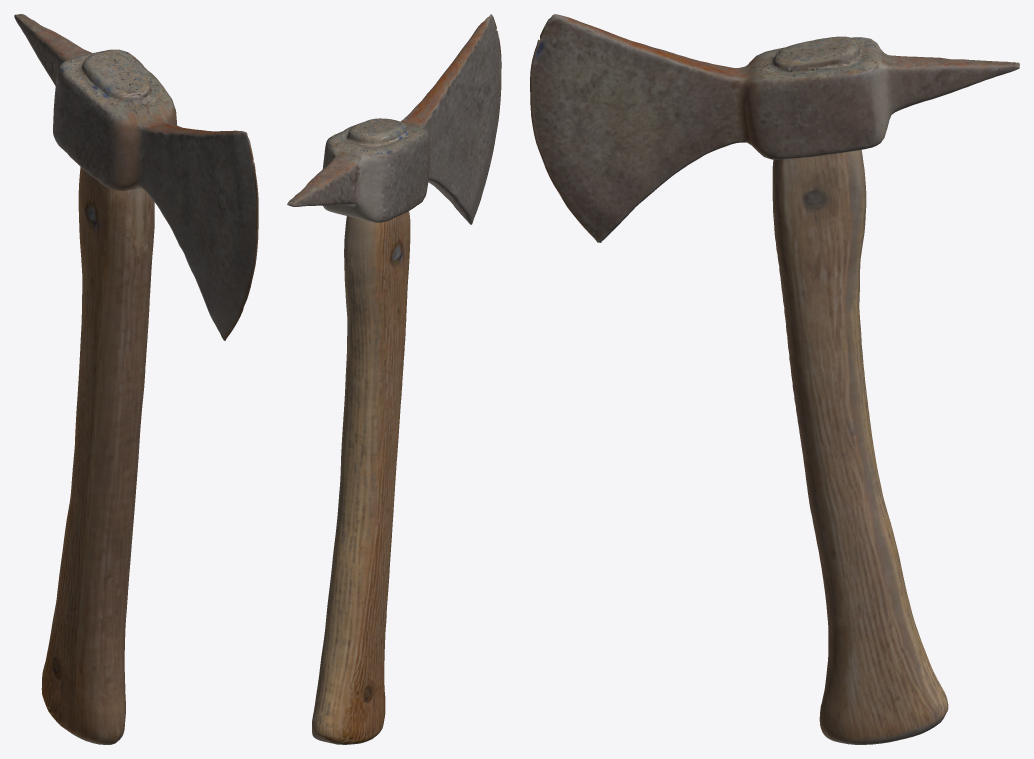
Rendered from Bronze Hatchet.glb.
The picture shows the model from 3 angles, left to right: view 1: azimuth 30°, elevation 25°; view 2: azimuth 150°, elevation 25°; view 3: azimuth 270°, elevation 25°; orthographic projection. The views are drawn at different scales.
Parts seen in each view (by area): view 1: file1; view 2: file1; view 3: file1.
Boxes of the visible parts, x1,y1,x2,y2 form: file1: (14, 14, 258, 744); file1: (287, 14, 501, 744); file1: (530, 14, 1019, 744).
Size of the model in its own units: 0.2246 by 1.99 by 1.22.
Materials: 1 (1 with a texture image).
